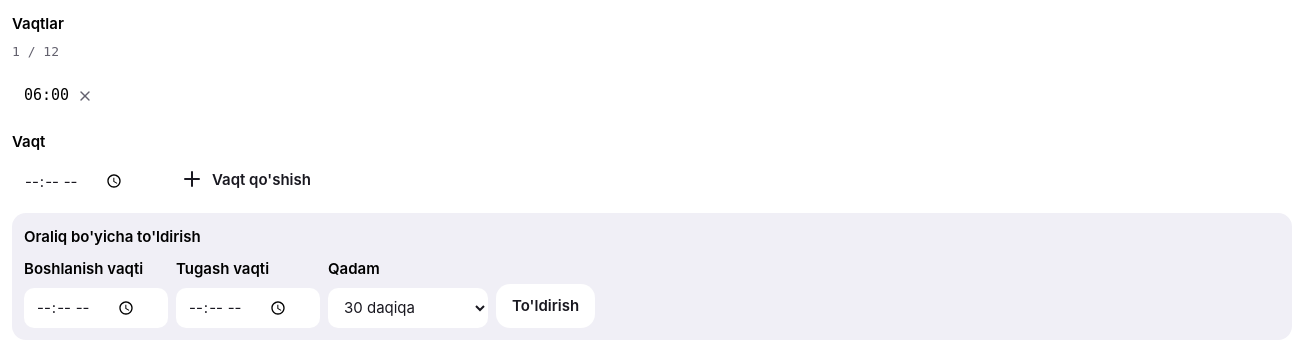
Test case: oraliq bo'yicha to'ldirish › ⛔ chegaradan oshsa HECH NIMA qo'shilmaydi — qisman to'ldirish YO'Q
The image size is (1292, 358).
Type "06:00" into the time field labelled "Boshlanish vaqti". click: x=96, y=308
box: [24,288,168,328]
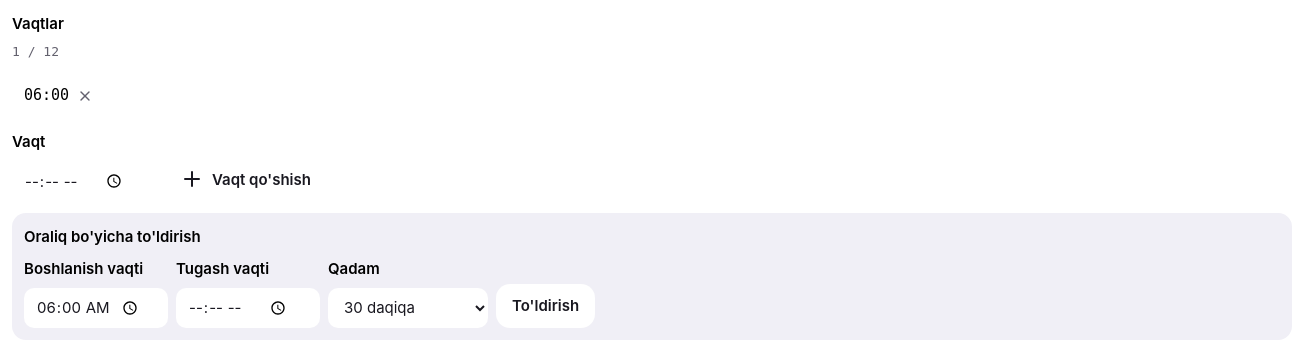
Type "18:00" into the time field labelled "Tugash vaqti". click: x=248, y=308
box: [176,288,320,328]
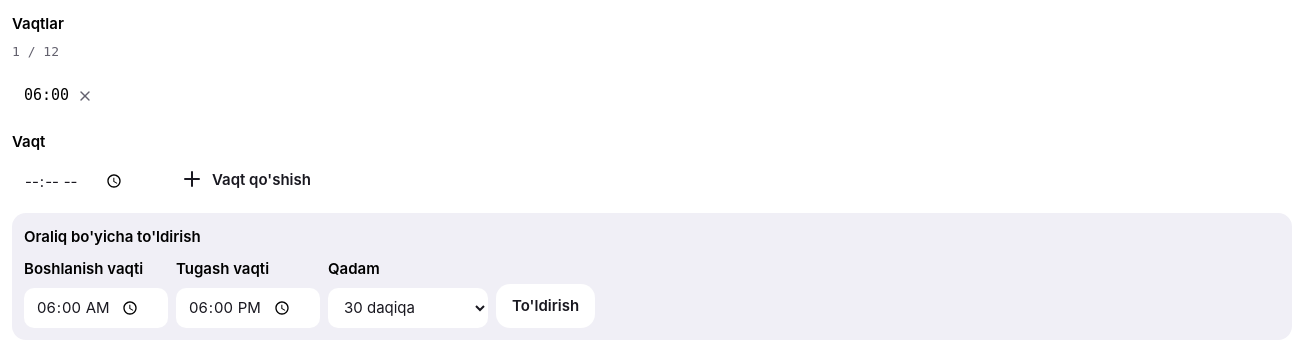
Select "15 daqiqa" in the dropdown labelled "Qadam". click: x=408, y=308
box: [328,288,488,328]
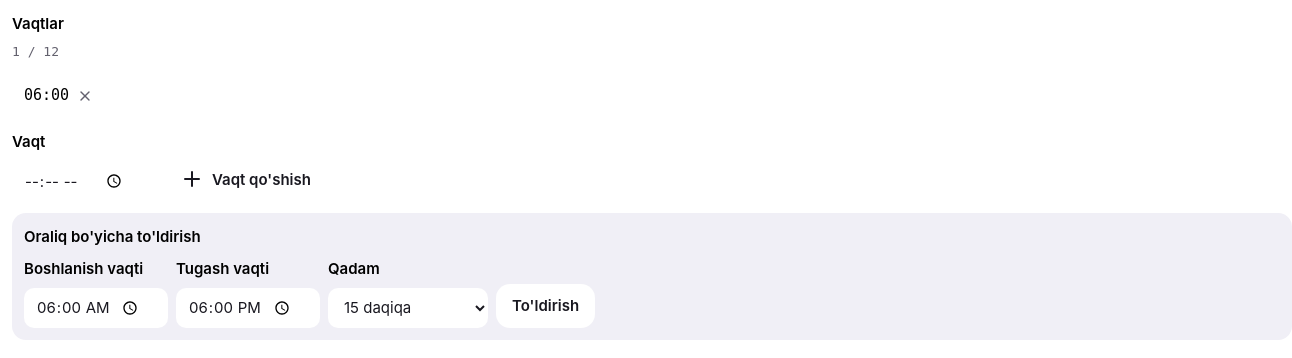
Click the button "To'ldirish". click: x=546, y=306
box: [496,284,595,328]
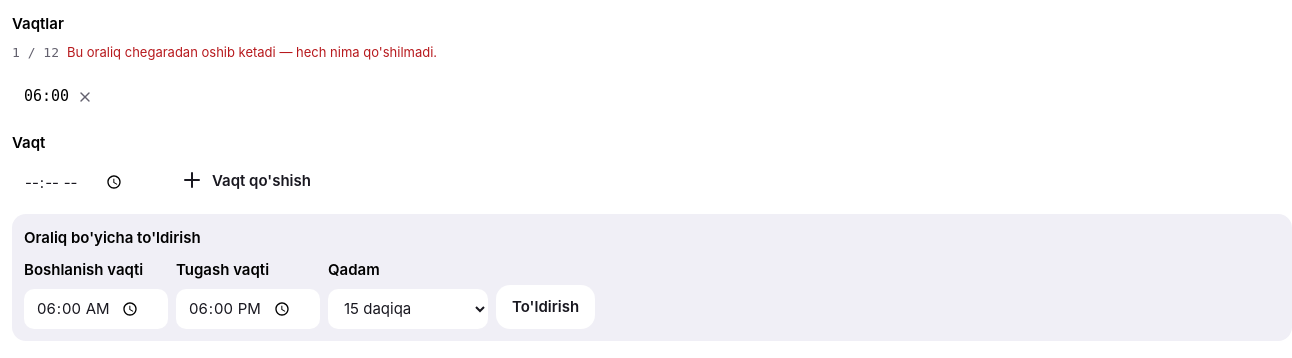
Expected: the number of list items is 1, [24,85,97,109]
Result: the message shows "Bu oraliq chegaradan oshib ketadi — hech nima qo'shilmadi." at [67,44,437,60]
